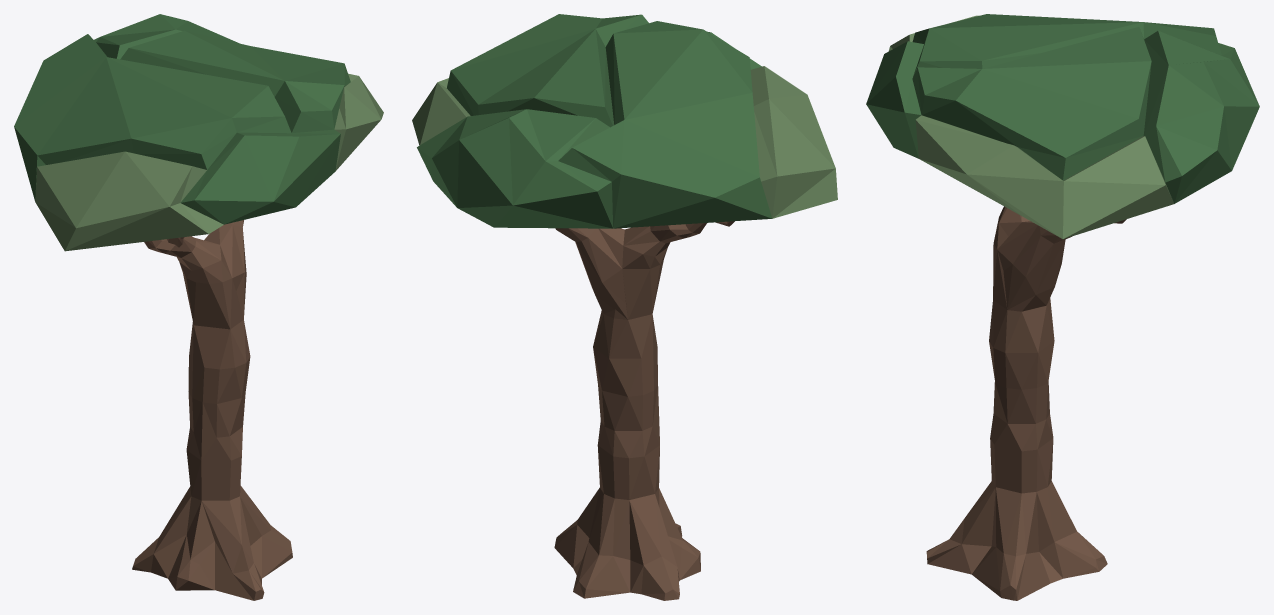
Rendered from _tree_14.fbx.
3 renders of one model, left to right at view 1: azimuth 30°, elevation 25°; view 2: azimuth 150°, elevation 25°; view 3: azimuth 270°, elevation 25°, orthographic. The views are drawn at different scales.
Parts seen in each view (by area): view 1: tree_14; view 2: tree_14; view 3: tree_14.
Boxes of the visible parts, x1,y1,x2,y2 form: tree_14: [14, 14, 383, 600]; tree_14: [412, 14, 837, 600]; tree_14: [866, 14, 1259, 600].
Size of the model in its own units: 743 by 956 by 656.
